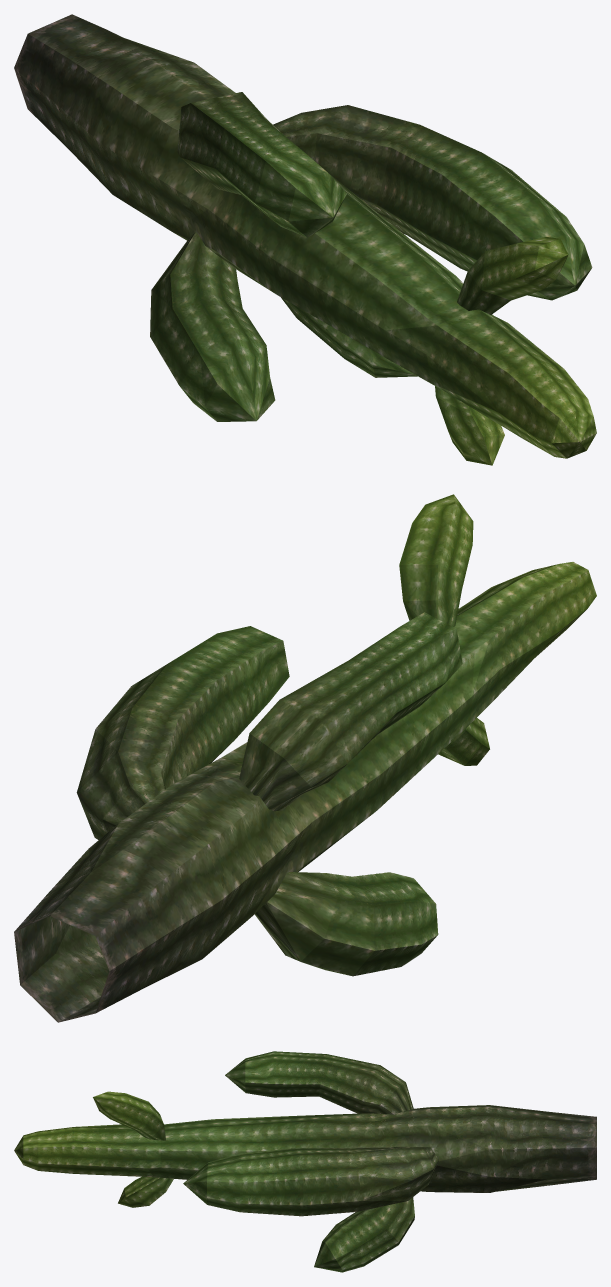
Rendered from pnhg_xianrenzhang01_c.obj.
3 renders of one model, top to bottom at view 1: azimuth 30°, elevation 25°; view 2: azimuth 150°, elevation 25°; view 3: azimuth 270°, elevation 25°, orthographic. The views are drawn at different scales.
Parts seen in each view (by area): view 1: pnhg_xianrenzhang01_c; view 2: pnhg_xianrenzhang01_c; view 3: pnhg_xianrenzhang01_c.
Boxes of the visible parts, x1,y1,x2,y2 form: pnhg_xianrenzhang01_c: [14, 14, 596, 465]; pnhg_xianrenzhang01_c: [14, 494, 596, 1022]; pnhg_xianrenzhang01_c: [14, 1051, 596, 1272].
Bounding box in the file's own units: 120 × 111 × 340.
3 materials, 3 textured.
